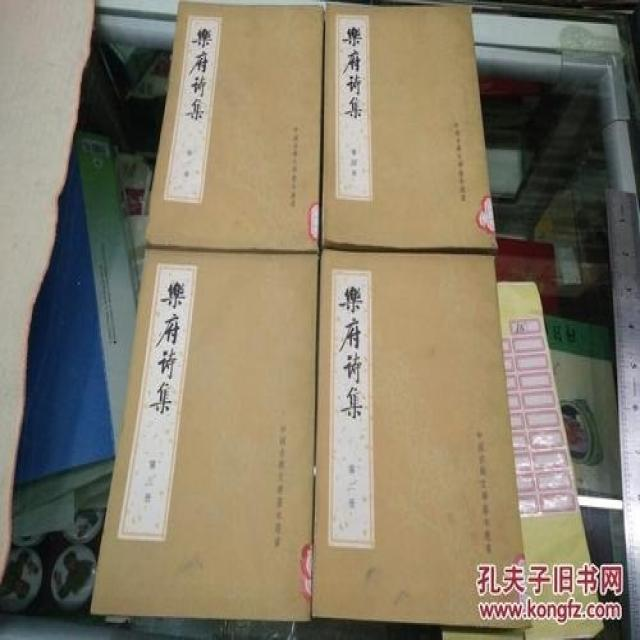box: (88, 246, 323, 620), (314, 247, 532, 631), (145, 2, 324, 253), (323, 3, 498, 251)
